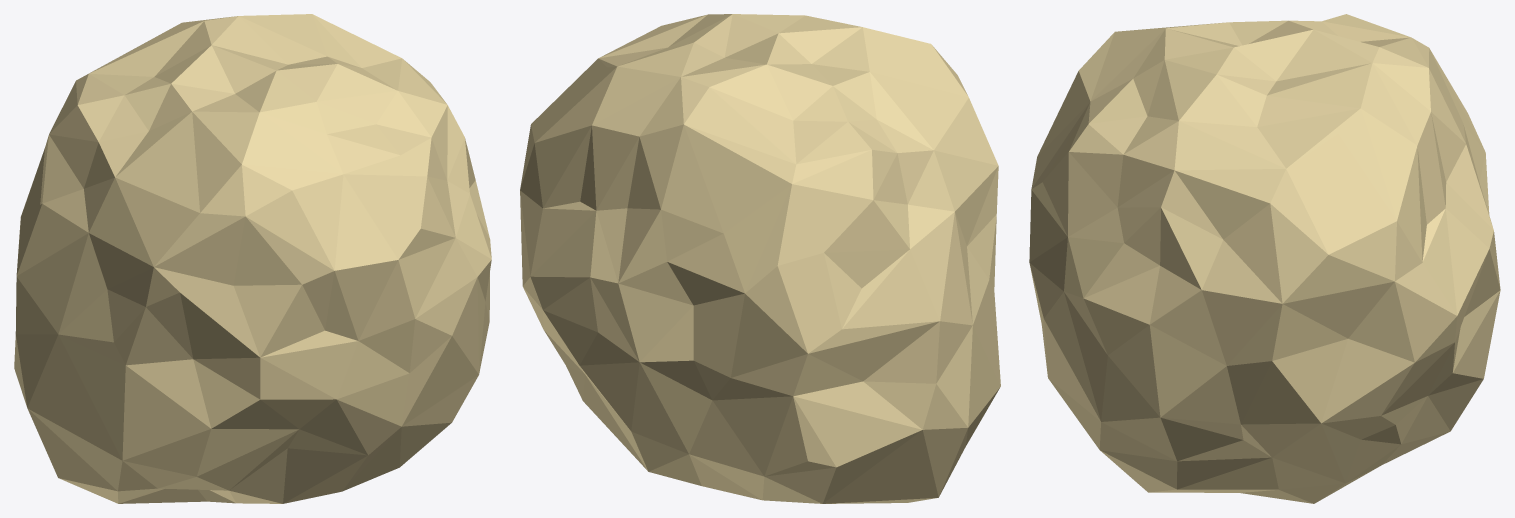
The model's file is Asteroid (71).fbx.
The picture shows the model from 3 angles, left to right: view 1: azimuth 30°, elevation 25°; view 2: azimuth 150°, elevation 25°; view 3: azimuth 270°, elevation 25°; orthographic projection. The views are drawn at different scales.
Visible parts, largest first — view 1: Asteroid129; view 2: Asteroid129; view 3: Asteroid129.
Part boxes in pixels (<box>): Asteroid129: <box>14,14,491,503</box>; Asteroid129: <box>520,14,1000,503</box>; Asteroid129: <box>1029,14,1500,503</box>.
Size of the model in its own units: 316 by 300 by 290.
